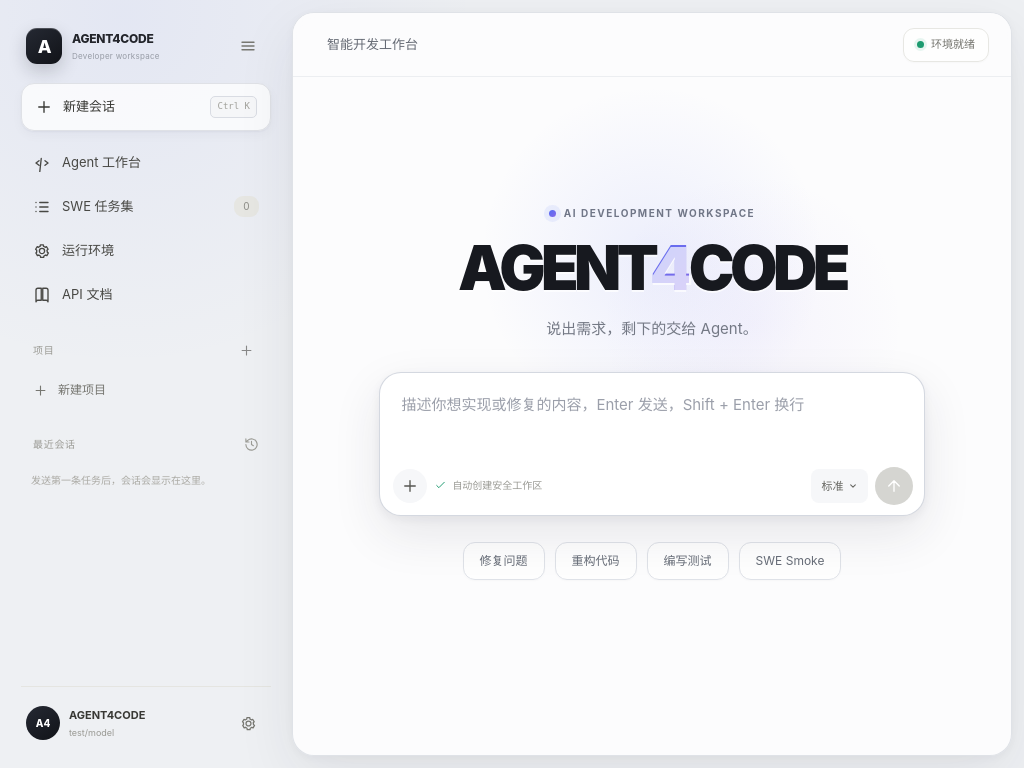
Test: AGENT4CODE chat shell › opens functional catalog and environment panels
This screenshot has width=1024, height=768.
Expected: the text "说出需求，剩下的交给 Agent。" is shown, 546,319 -> 758,338
Click the button "SWE 任务集 0": x=146, y=206 21,186 -> 271,227
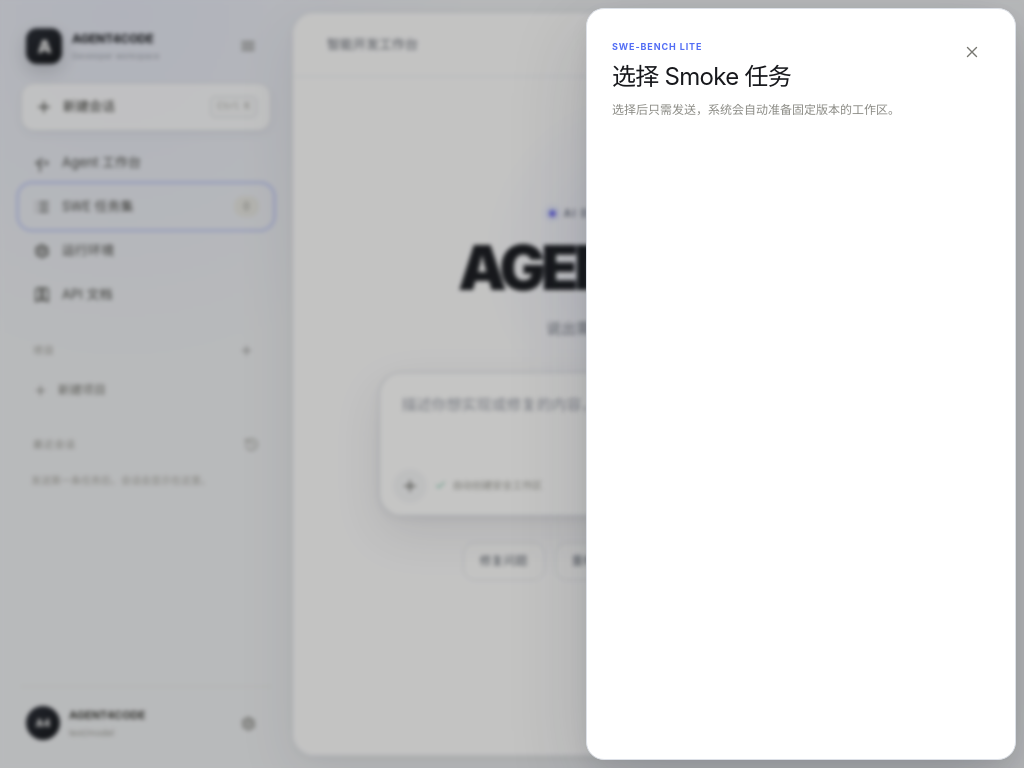
Now the dialog "选择 Smoke 任务" is shown
Click the button named "关闭任务集": x=512, y=384 0,0 -> 1023,767
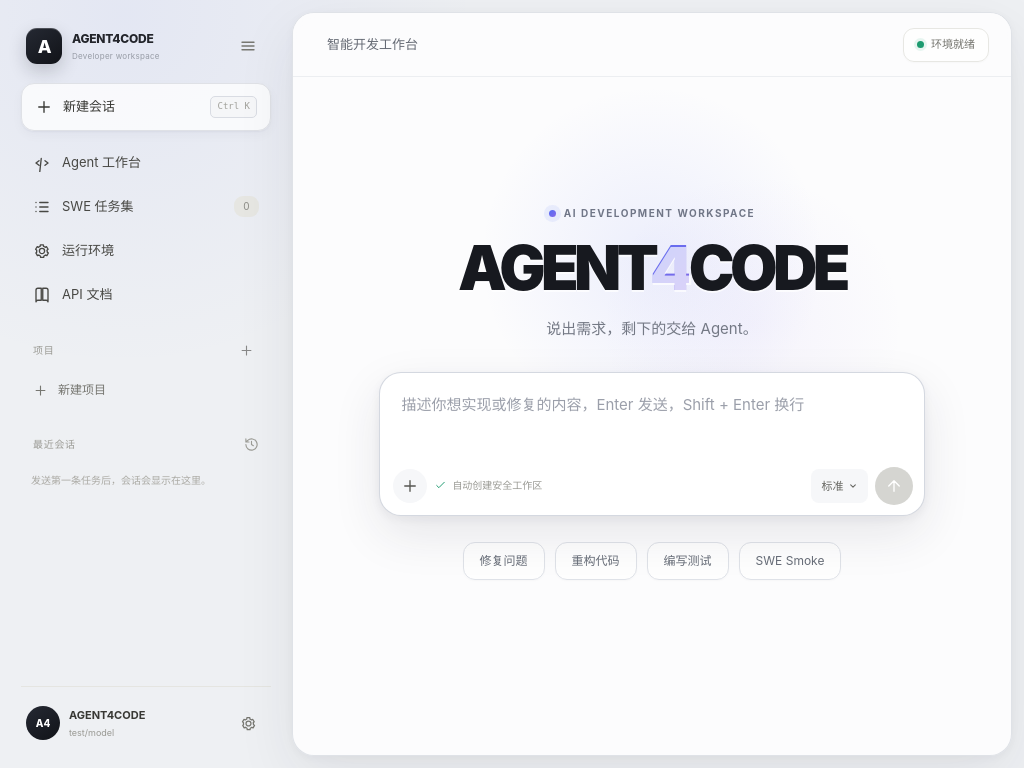
Click the button "环境就绪": x=946, y=44 903,28 -> 989,62
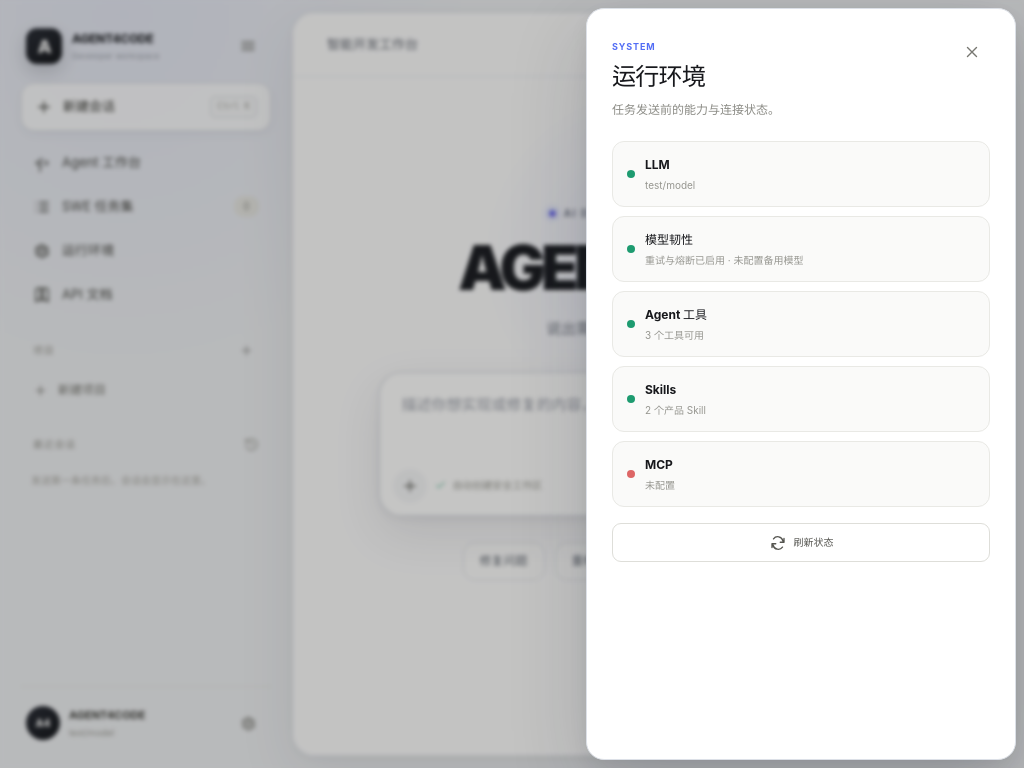
Now the dialog "运行环境" is shown
